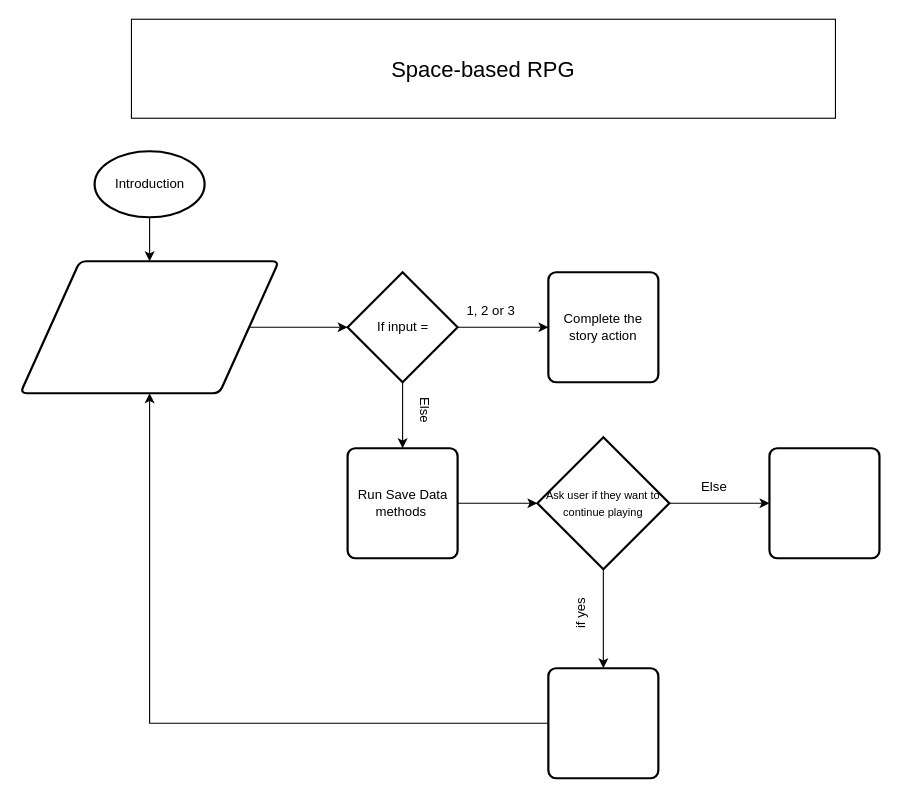
This 899x799 diagram has some shape labels left out. Here are the shapes that lost their labels. From the top down, the centre of each, then its label:
point 149,327: Prompts user to select an option
point 824,503: End Game
point 603,723: Resumes story from saved point
